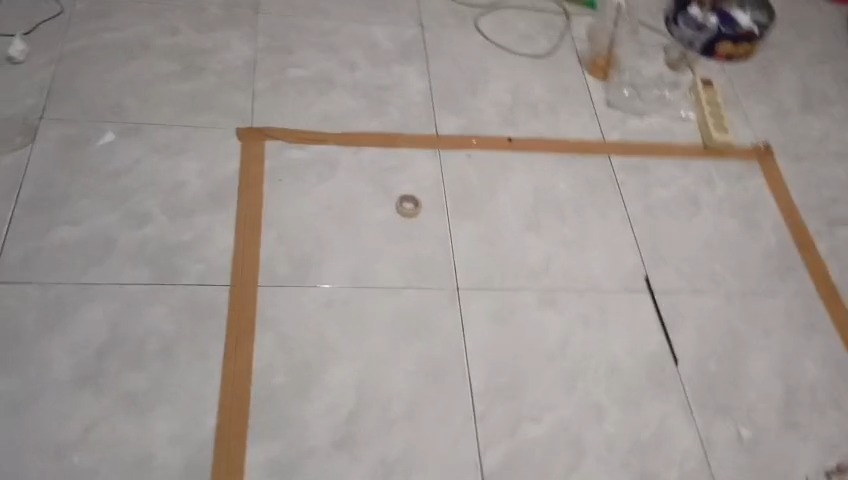floor marking: (212, 127, 847, 479)
